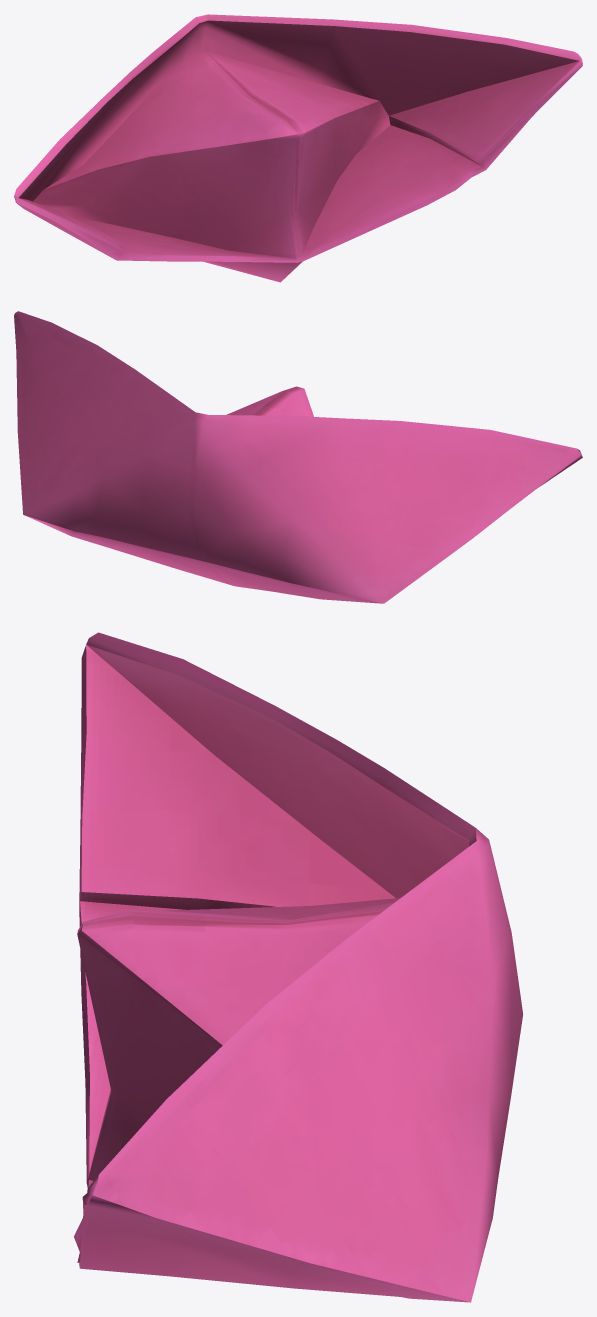
The model's file is ref_gtpaperboat.fbx.
3 views of the same model, one above another, from view 1: azimuth 30°, elevation 25°; view 2: azimuth 150°, elevation 25°; view 3: azimuth 270°, elevation 25° (orthographic). The views are drawn at different scales.
Visible parts, largest first — view 1: ref_gtpaperboat; view 2: ref_gtpaperboat; view 3: ref_gtpaperboat.
Part boxes in pixels (box(x1,y1,x2,y2)): ref_gtpaperboat: box(14, 14, 582, 282); ref_gtpaperboat: box(14, 311, 582, 603); ref_gtpaperboat: box(74, 632, 523, 1302).
Bounding box in the file's own units: 100 × 35.11 × 34.28.
1 material, 1 textured.
